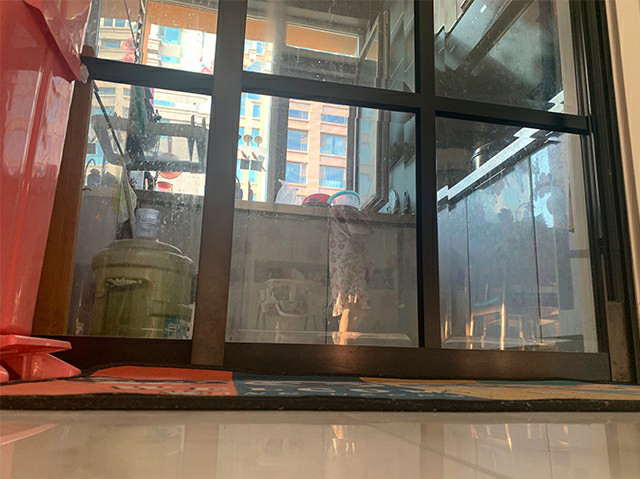carpet: (1, 361, 640, 411)
